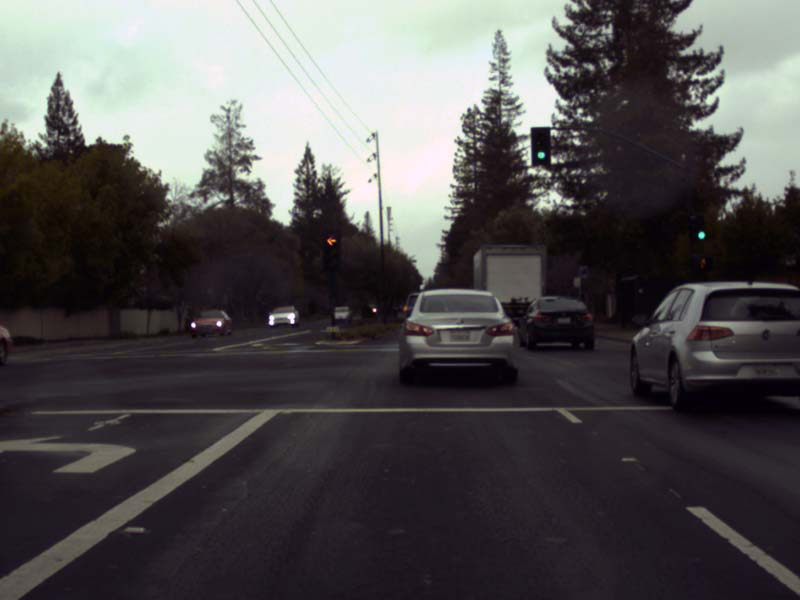Green: (530, 126, 551, 166), (688, 213, 707, 244)
Red: (322, 231, 340, 270)
